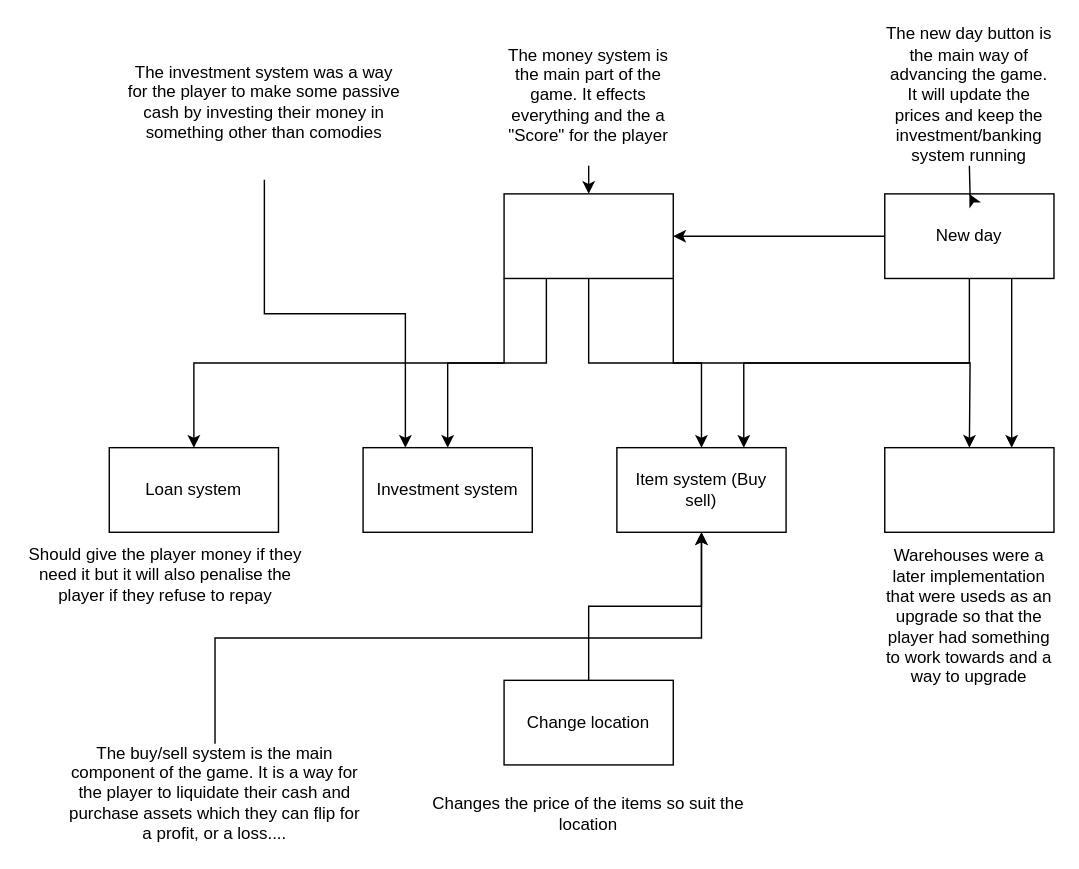
This 1079x869 diagram has some shape labels left out. Here are the shapes that lost their labels. From the top down, the centre of each, then its label:
(x=588, y=235): Money system
(x=968, y=489): Warehouse
